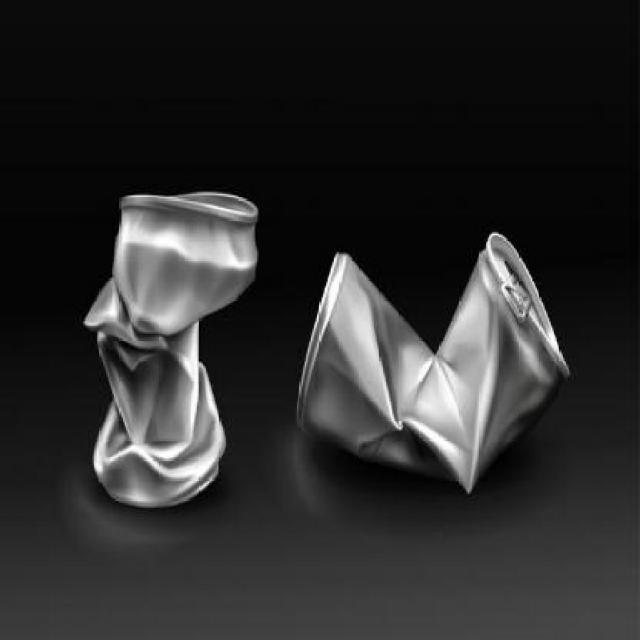can: (288, 183, 590, 531), (68, 154, 264, 531)
